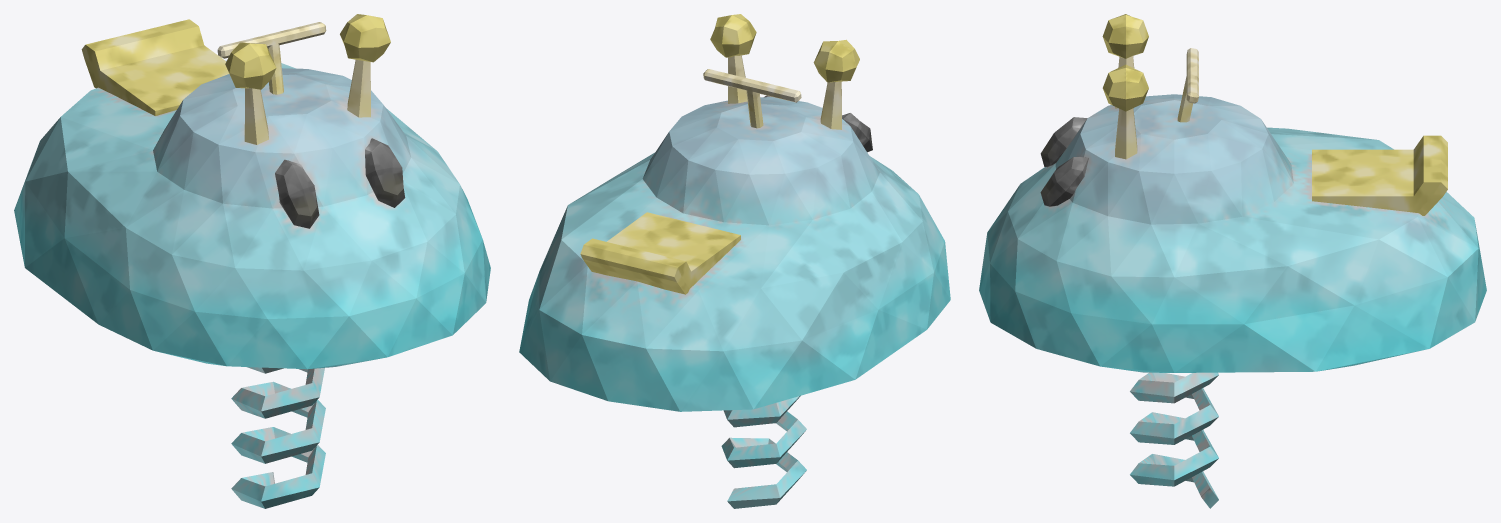
The model's file is MD_actionkomuSwing_251221_test1.fbx.
3 renders of one model, left to right at view 1: azimuth 30°, elevation 25°; view 2: azimuth 150°, elevation 25°; view 3: azimuth 270°, elevation 25°, orthographic. The views are drawn at different scales.
Parts seen in each view (by area): view 1: pyoko_kansei; view 2: pyoko_kansei; view 3: pyoko_kansei.
Boxes of the visible parts, left/top/right/bottom form: pyoko_kansei: left=14, top=14, right=490, bottom=508; pyoko_kansei: left=519, top=14, right=950, bottom=508; pyoko_kansei: left=979, top=14, right=1486, bottom=508.
Bounding box in the file's own units: 122 × 159 × 158.
